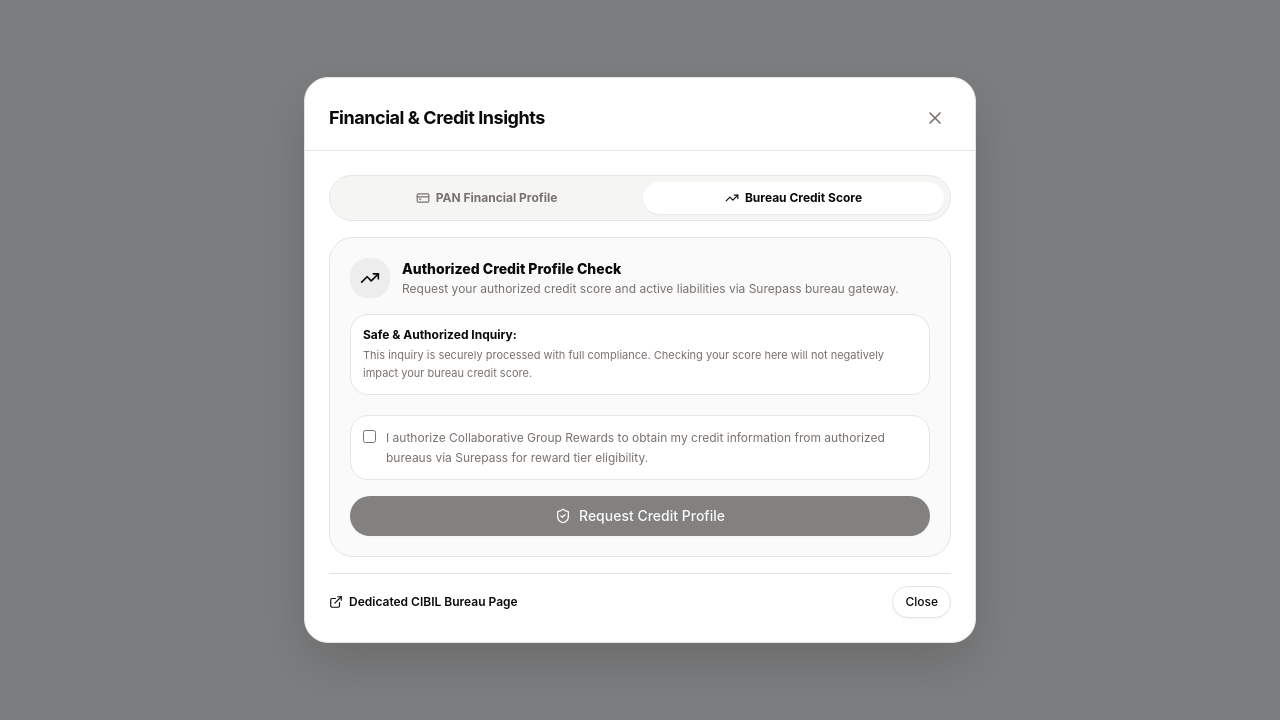
Scenario: CreditDashboardModal Component › renders initial unrequested state and allows requesting credit report with consent
Expected: the heading "Authorized Credit Profile Check" is shown, [402,260,621,277]
Click the checkbox. click: (370, 437)
box: [363,430,376,443]
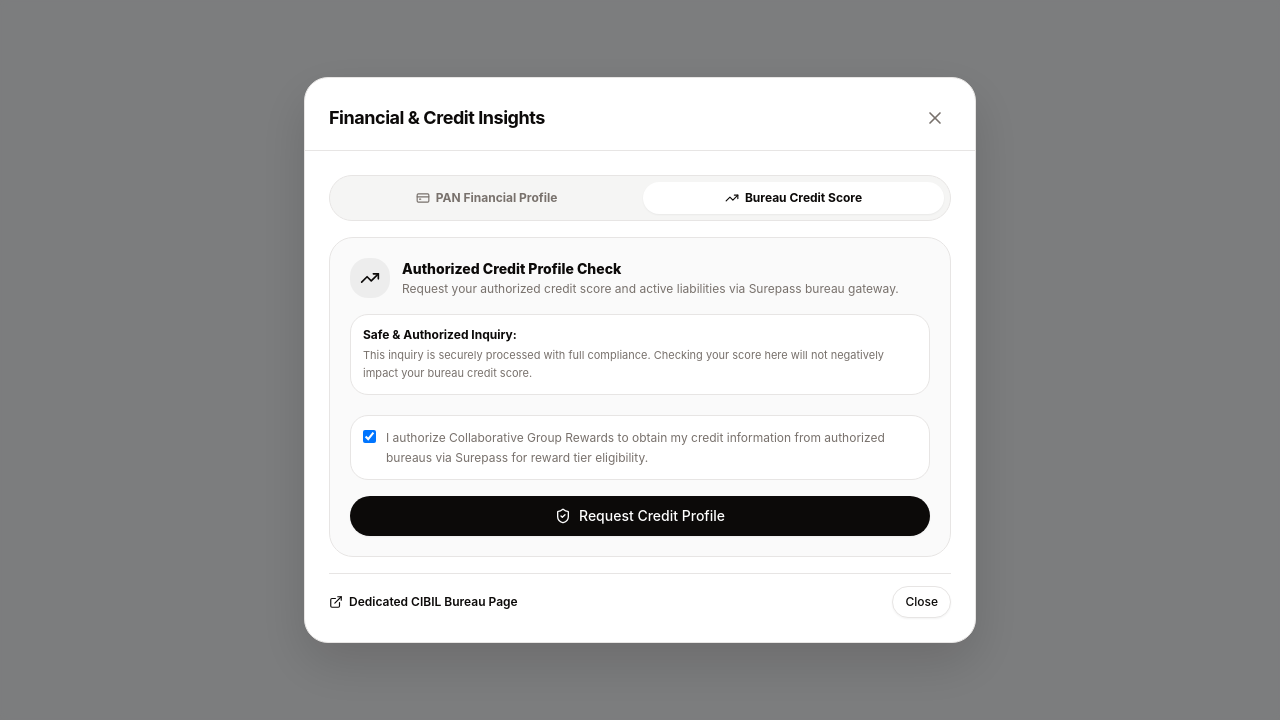
Expected: the checkbox is checked, [363,430,376,443]
Note: Click request button
Click the button "Request Credit Profile". click: (640, 516)
box: [350,496,930,536]
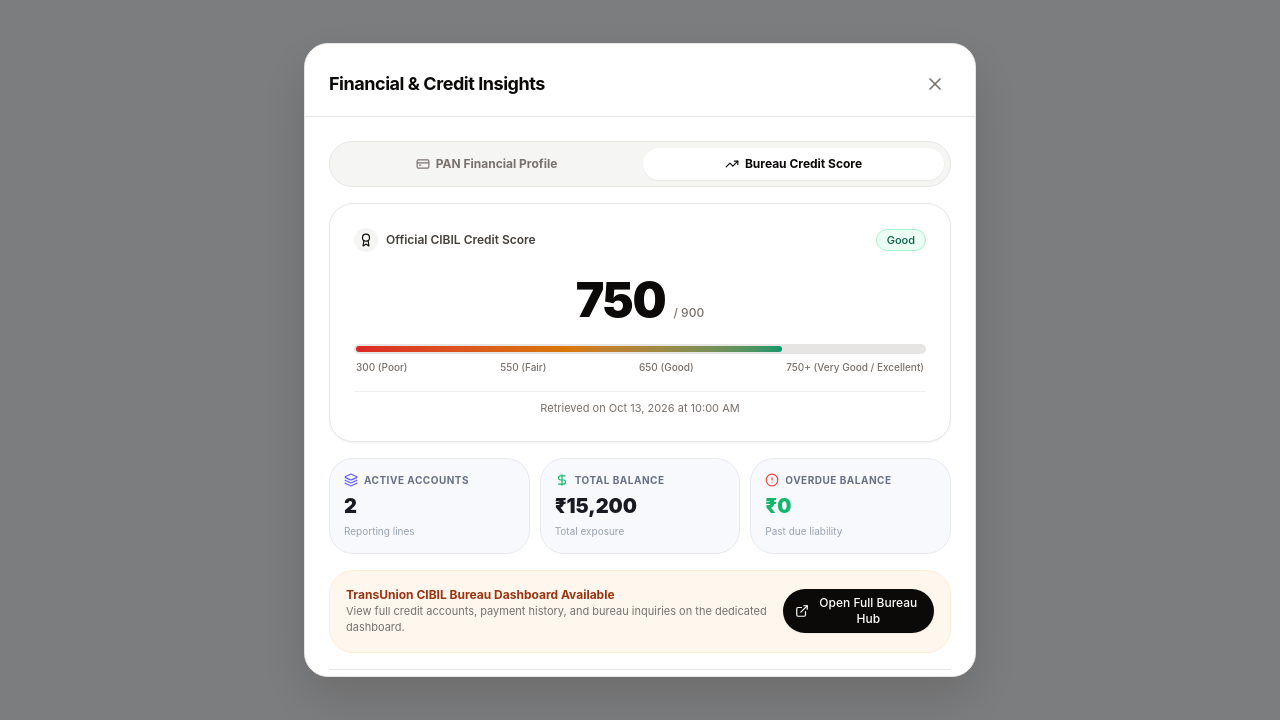
Expected: the text "750" is shown, [576,276,665,324]
Expected: the text "Good" is shown, [876,229,926,252]
